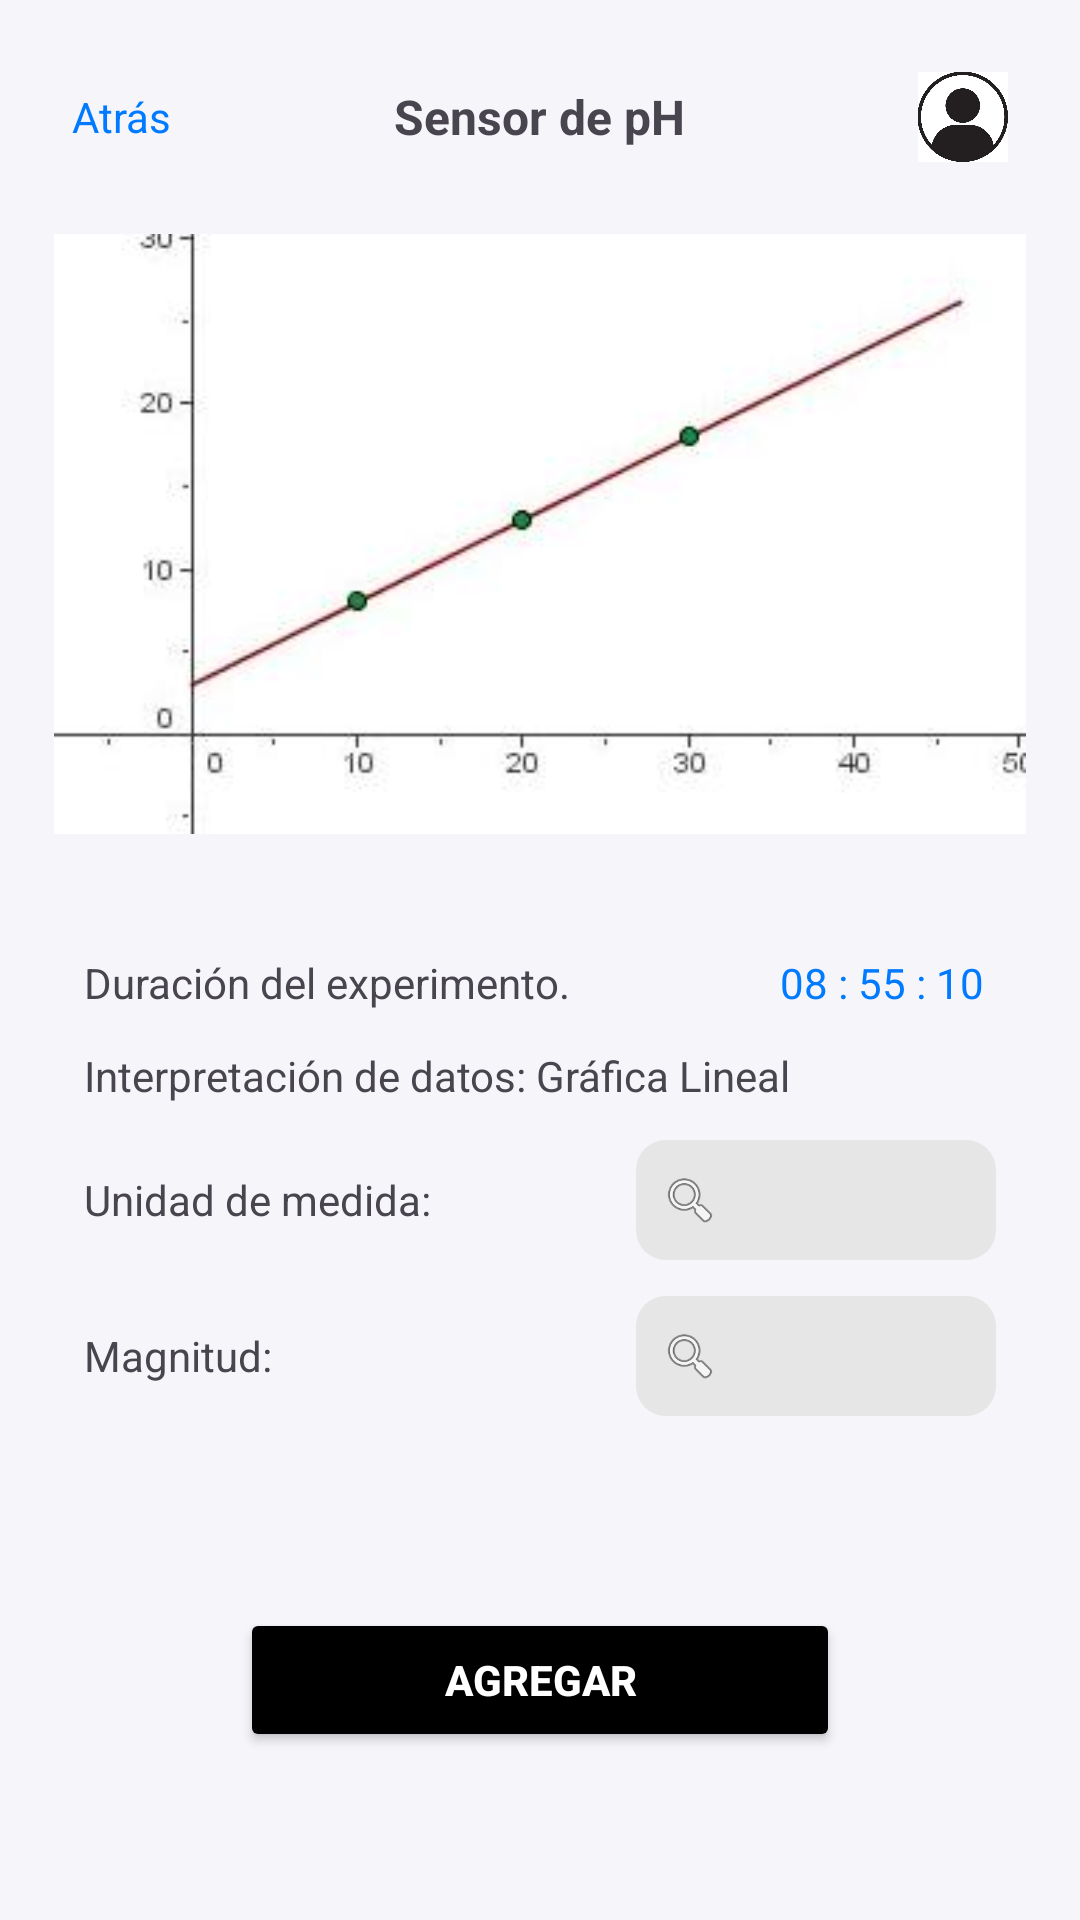

Locate icon controls on the screen. Image size 1080 x 1920, boxes as (x1, y1, x2, y2).
search: (668, 1178, 712, 1223), (668, 1334, 712, 1379)
usuario: (918, 72, 1008, 162)
